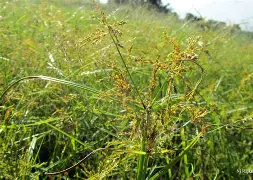weed: (0, 1, 252, 178)
